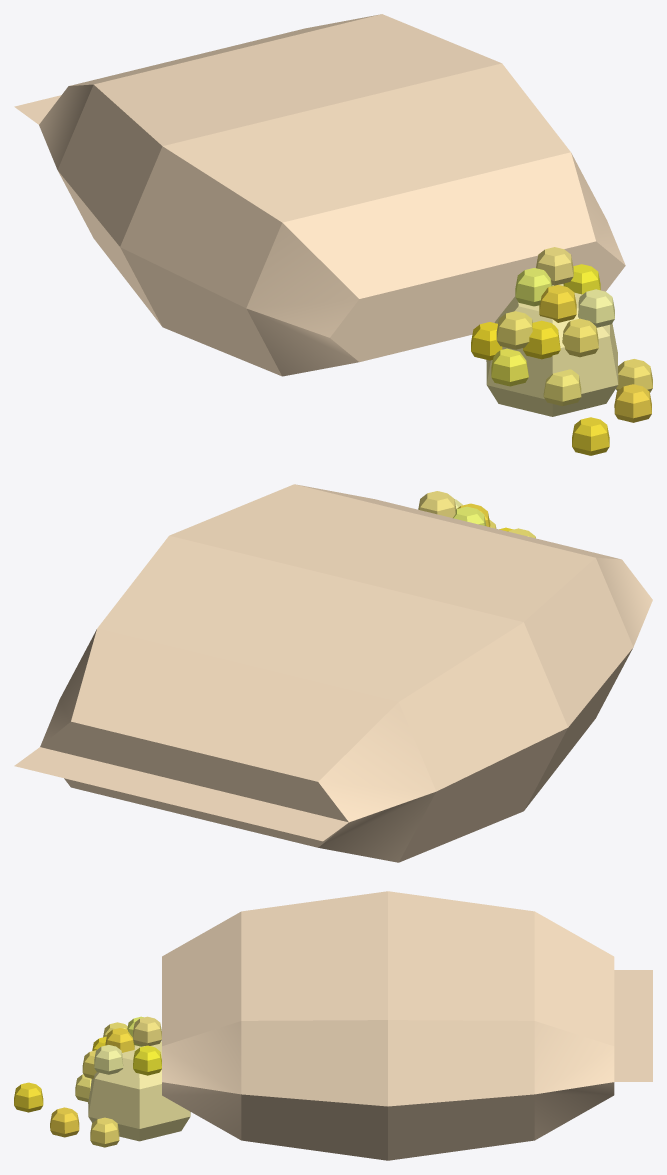
The model's file is FertilizerBagY.fbx.
3 renders of one model, top to bottom at view 1: azimuth 30°, elevation 25°; view 2: azimuth 150°, elevation 25°; view 3: azimuth 270°, elevation 25°, orthographic. The views are drawn at different scales.
Parts seen in each view (by area): view 1: bagFlat, stone_smallI.001, stone_smallI.013, stone_smallI.008, stone_smallI.003, stone_smallI.005, stone_smallI.009, stone_smallI.006, stone_smallI.012, stone_smallI.007, stone_smallI.011, stone_smallI.004 (+4 smaller); view 2: bagFlat, stone_smallI.004; view 3: bagFlat, stone_smallI.001, stone_smallI.008, stone_smallI.014, stone_smallI.013, stone_smallI.002, stone_smallI.007, stone_smallI.004, stone_smallI.006.
Boxes of the visible parts, box(x1,y1,x2,y2) form: bagFlat: box(14, 14, 625, 376); stone_smallI.001: box(486, 284, 618, 416); stone_smallI.013: box(572, 417, 609, 455); stone_smallI.008: box(614, 384, 651, 422); stone_smallI.003: box(491, 348, 528, 386); stone_smallI.005: box(562, 318, 598, 357); stone_smallI.009: box(496, 311, 532, 349); stone_smallI.006: box(539, 285, 576, 322); stone_smallI.012: box(543, 369, 581, 406); stone_smallI.007: box(578, 289, 614, 327); stone_smallI.011: box(523, 320, 560, 359); stone_smallI.004: box(536, 247, 573, 285); bagFlat: box(14, 484, 652, 862); stone_smallI.004: box(418, 491, 456, 517); bagFlat: box(162, 891, 652, 1160); stone_smallI.001: box(88, 1041, 190, 1141); stone_smallI.008: box(50, 1107, 79, 1137); stone_smallI.014: box(90, 1117, 119, 1147); stone_smallI.013: box(14, 1082, 43, 1112); stone_smallI.002: box(133, 1045, 161, 1075); stone_smallI.007: box(94, 1045, 123, 1074); stone_smallI.004: box(133, 1016, 161, 1045); stone_smallI.006: box(105, 1028, 134, 1052).
Bounding box in the file's own units: 18.7 × 7.72 × 31.36.
